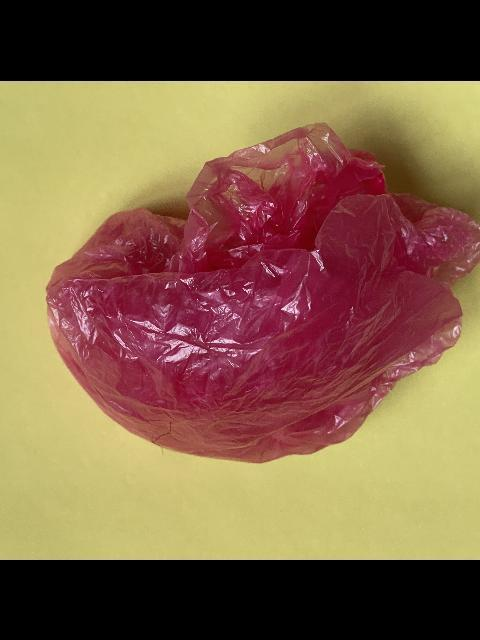plasticbag: (43, 118, 480, 464)
